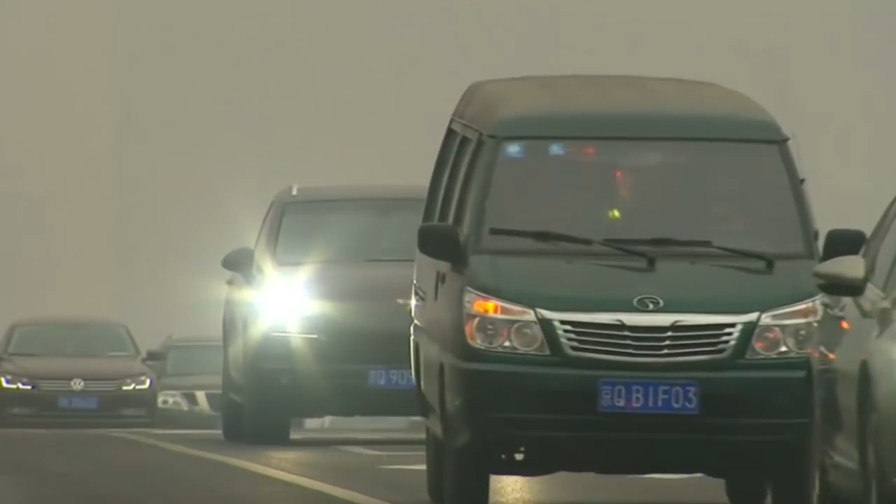car: (410, 73, 866, 504), (217, 180, 571, 443), (1, 315, 170, 432), (145, 333, 307, 432)
